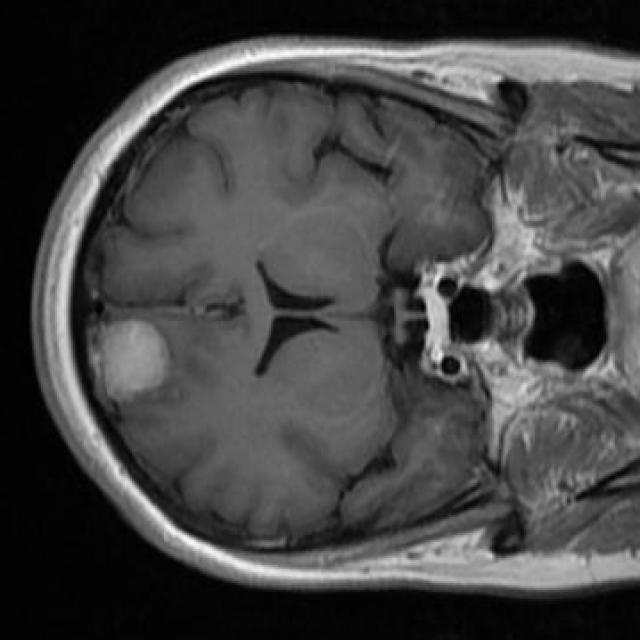meningioma: (102, 321, 168, 403)
